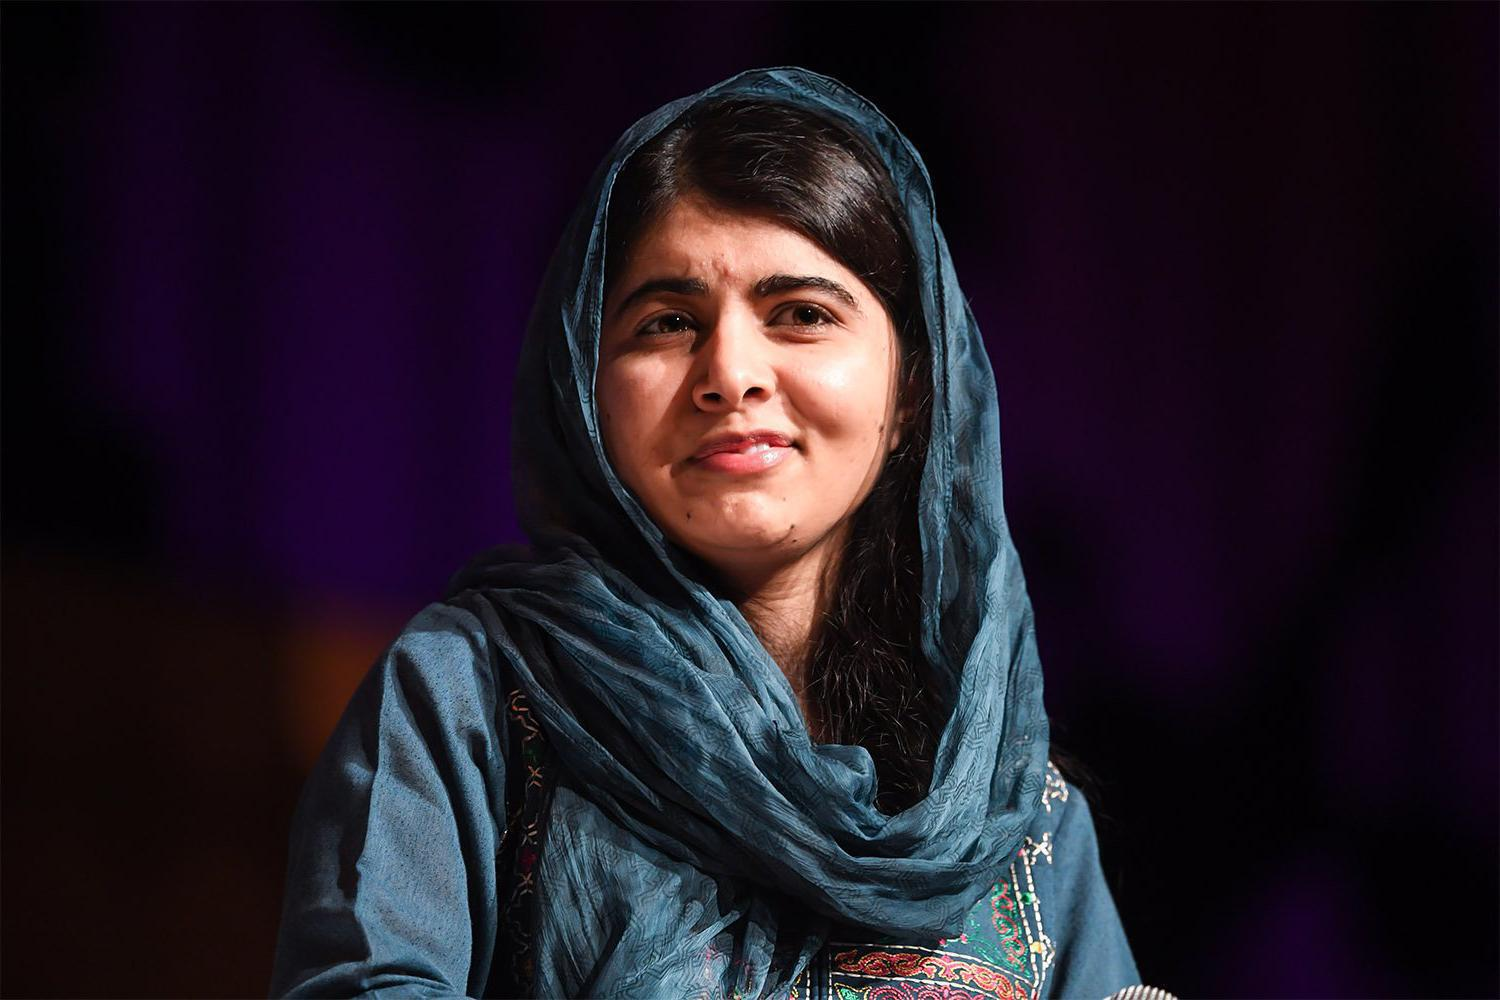Sober: (615, 212, 879, 530)
